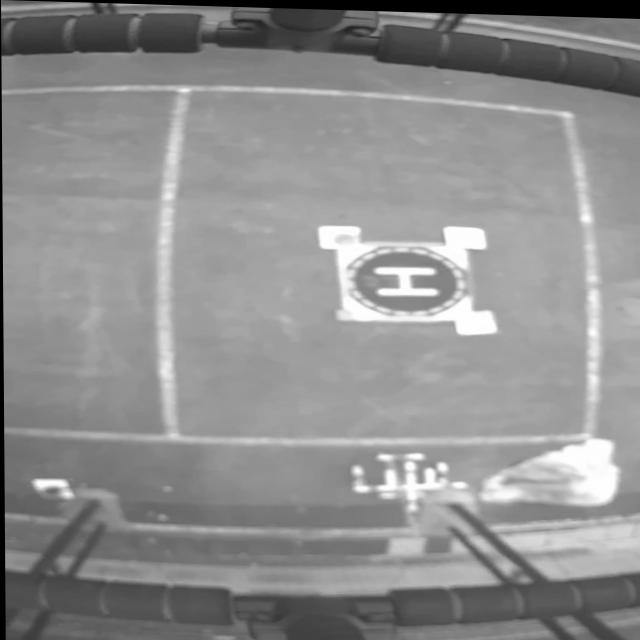Helipad: (374, 265, 437, 294)
